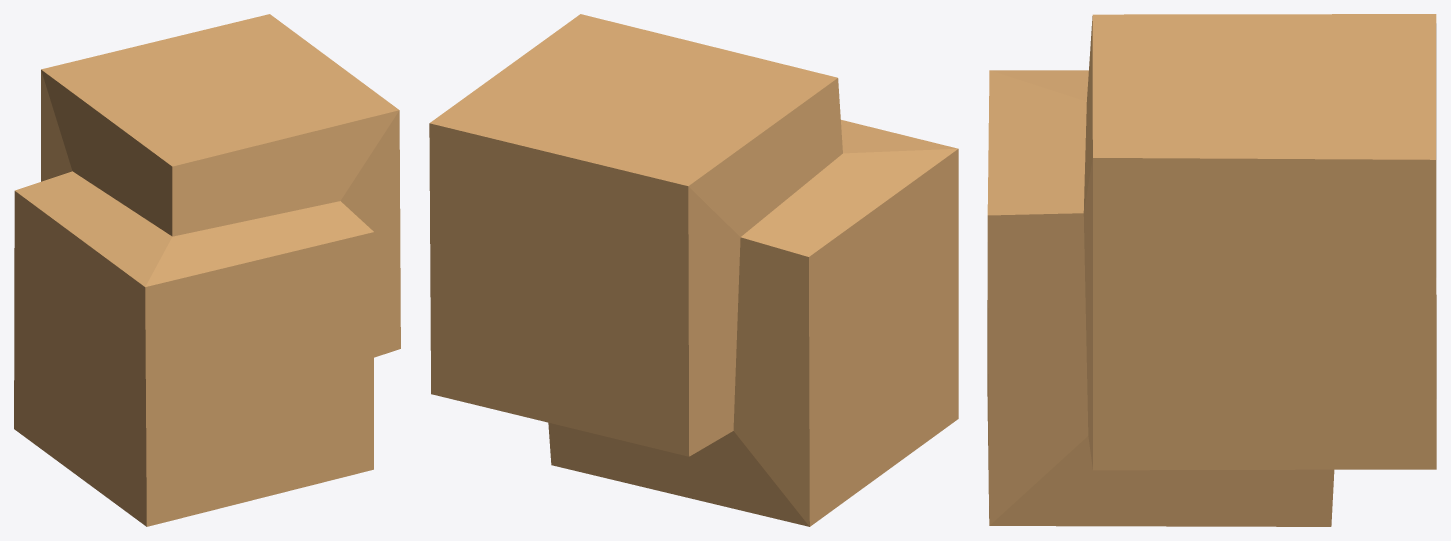
Rendered from SM_LP_PyriteRefined.fbx.
The picture shows the model from 3 angles, left to right: view 1: azimuth 30°, elevation 25°; view 2: azimuth 150°, elevation 25°; view 3: azimuth 270°, elevation 25°; orthographic projection. The views are drawn at different scales.
Visible parts, largest first — view 1: SM_LP_PyriteRefined; view 2: SM_LP_PyriteRefined; view 3: SM_LP_PyriteRefined.
Part boxes in pixels (box(x1,y1,x2,y2)): SM_LP_PyriteRefined: box(14, 14, 400, 526); SM_LP_PyriteRefined: box(429, 14, 958, 526); SM_LP_PyriteRefined: box(987, 14, 1436, 526).
Size of the model in its own units: 0.1874 by 0.1909 by 0.1891.
